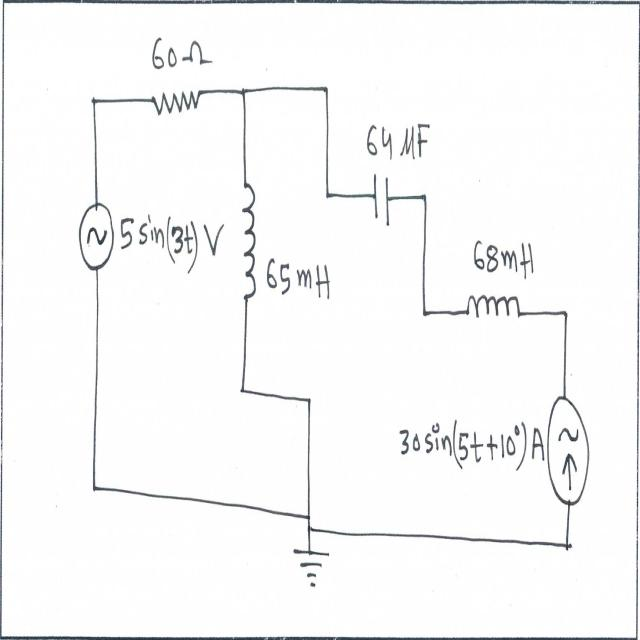ac_current: (75, 199, 115, 275)
capacitor: (370, 166, 392, 232)
current_source: (545, 384, 592, 509)
ground: (292, 545, 335, 605)
inductor: (241, 173, 260, 313), (462, 290, 526, 324)
resistor: (149, 84, 205, 124)
